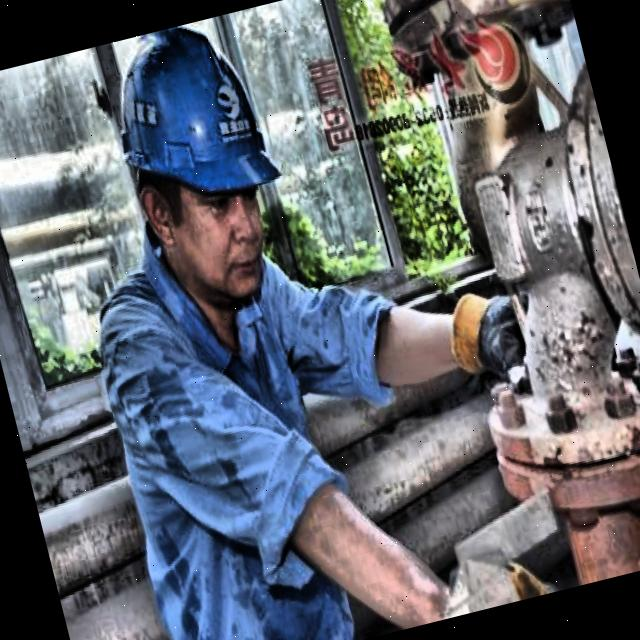helmet: (76, 9, 322, 338)
